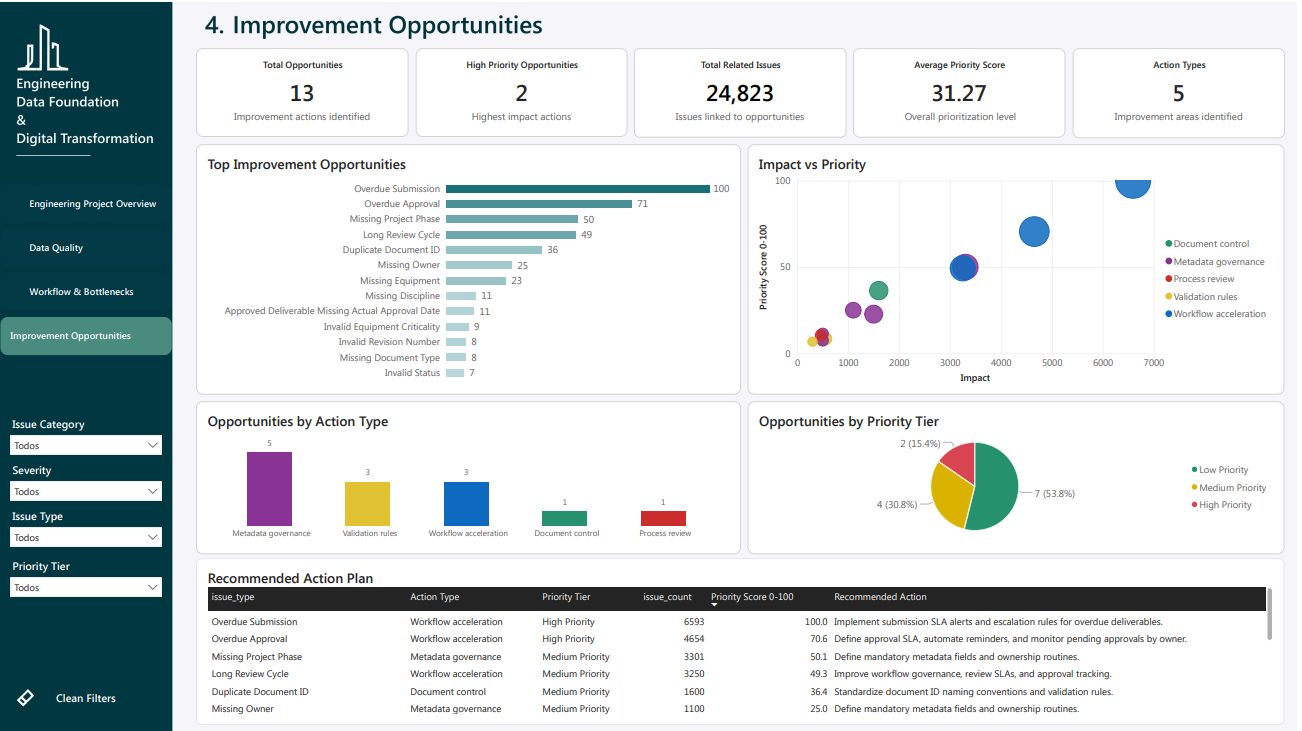

Layout of this report page (visuals, bound fields, positions):
{"tool":"powerbi","page":{"name":"Improvement Opportunities","canvas":[1920,1080],"ordinal":4},"visuals":[{"type":"pageNavigator","box":[0,270,254,252],"z":0},{"type":"card","title":"Average Priority Score","fields":{"Values":["Medidas.AveragePriorityScore"]},"box":[1261.8,68,314,131.8],"z":1000},{"type":"card","title":"Total Related Issues","fields":{"Values":["Medidas.TotalRelatedIssues"]},"box":[938.2,68,313.6,131.8],"z":2000},{"type":"card","title":"Total Opportunities","fields":{"Values":["Medidas.TotalOpportunities"]},"box":[290,68,314,131.2],"z":3000},{"type":"card","title":"High Priority Opportunities","fields":{"Values":["Medidas.HighPriorityOpportunities"]},"box":[614.5,68,313.6,130.9],"z":4000},{"type":"actionButton","box":[0,992.5,253.8,70],"z":5000},{"type":"slicer","fields":{"Values":["vw_improvement_opportunities.Severity Adjusted"]},"box":[0,680.1,254.2,68.3],"z":6000},{"type":"slicer","fields":{"Values":["vw_improvement_opportunities.issue_category"]},"box":[0,611.8,254.2,68.3],"z":7000},{"type":"slicer","fields":{"Values":["vw_improvement_opportunities.issue_type"]},"box":[0,748.5,254.2,68.3],"z":8000},{"type":"slicer","fields":{"Values":["vw_improvement_opportunities.Priority Tier"]},"box":[0,822,254,78],"z":9000},{"type":"clusteredBarChart","title":"Top Improvement Opportunities","fields":{"Category":["vw_improvement_opportunities.issue_type"],"Y":["Sum(vw_improvement_opportunities.Priority Score 0-100)"]},"box":[290,210,806,370],"z":10000},{"type":"card","title":"Action Types","fields":{"Values":["Medidas.DistinctActionTypes"]},"box":[1586.7,68,314,132.5],"z":11000},{"type":"clusteredColumnChart","title":"Opportunities by Action Type","fields":{"Category":["vw_improvement_opportunities.Action Type"],"Y":["Medidas.TotalOpportunities"]},"box":[290,590,806,226],"z":12000},{"type":"pieChart","title":"Opportunities by Priority Tier","fields":{"Category":["vw_improvement_opportunities.Priority Tier"],"Y":["Medidas.TotalOpportunities"]},"box":[1106,590,794,226],"z":13000},{"type":"scatterChart","title":"Impact vs Priority","fields":{"X":["vw_improvement_opportunities.issue_count"],"Size":["Sum(vw_improvement_opportunities.affected_deliverables)"],"Series":["vw_improvement_opportunities.Action Type"],"Y":["vw_improvement_opportunities.Priority Score 0-100"]},"box":[1106,210,794,370],"z":14000},{"type":"tableEx","title":"Recommended Action Plan","fields":{"Values":["vw_improvement_opportunities.issue_type","vw_improvement_opportunities.Action Type","vw_improvement_opportunities.Priority Tier","vw_improvement_opportunities.issue_count","vw_improvement_opportunities.Priority Score 0-100","vw_improvement_opportunities.Recommended Action Clean"]},"box":[290,822,1610,246],"z":15000}]}

Visuals, with their boxes on the page's 1920x1080 design canvas (x1, y1, x2, y2). These are canvas units, not pixel positions in the 1302x731 screenshot, which may show the page scaled, cropped or inside an application window:
pageNavigator: detection(0, 270, 254, 522)
"Average Priority Score" card: detection(1262, 68, 1576, 200)
"Total Related Issues" card: detection(938, 68, 1252, 200)
"Total Opportunities" card: detection(290, 68, 604, 199)
"High Priority Opportunities" card: detection(614, 68, 928, 199)
actionButton: detection(0, 992, 254, 1062)
slicer - vw_improvement_opportunities.Severity Adjusted: detection(0, 680, 254, 748)
slicer - vw_improvement_opportunities.issue_category: detection(0, 612, 254, 680)
slicer - vw_improvement_opportunities.issue_type: detection(0, 748, 254, 817)
slicer - vw_improvement_opportunities.Priority Tier: detection(0, 822, 254, 900)
"Top Improvement Opportunities" clusteredBarChart: detection(290, 210, 1096, 580)
"Action Types" card: detection(1587, 68, 1901, 200)
"Opportunities by Action Type" clusteredColumnChart: detection(290, 590, 1096, 816)
"Opportunities by Priority Tier" pieChart: detection(1106, 590, 1900, 816)
"Impact vs Priority" scatterChart: detection(1106, 210, 1900, 580)
"Recommended Action Plan" tableEx: detection(290, 822, 1900, 1068)
